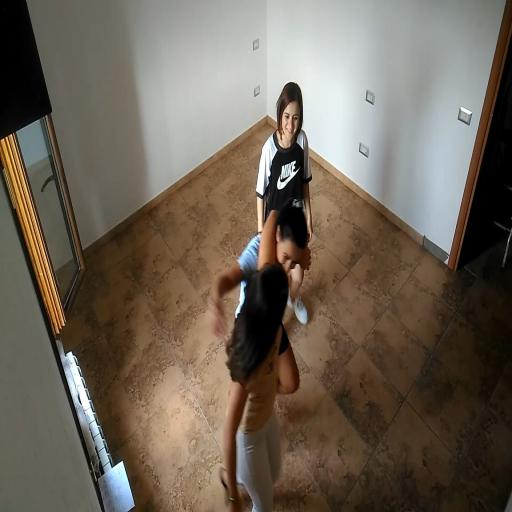nao-violencia: (196, 187, 326, 512)
